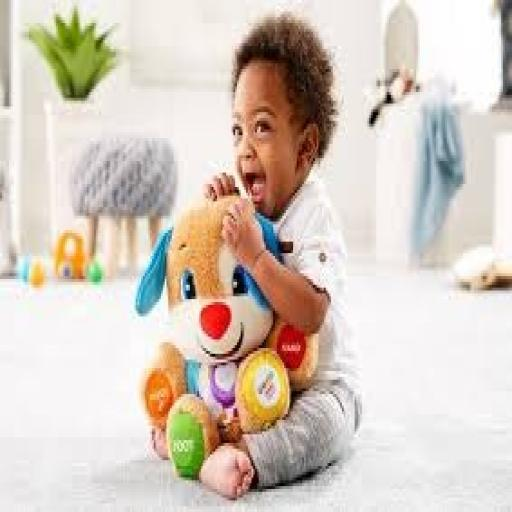baby: (200, 15, 361, 497)
